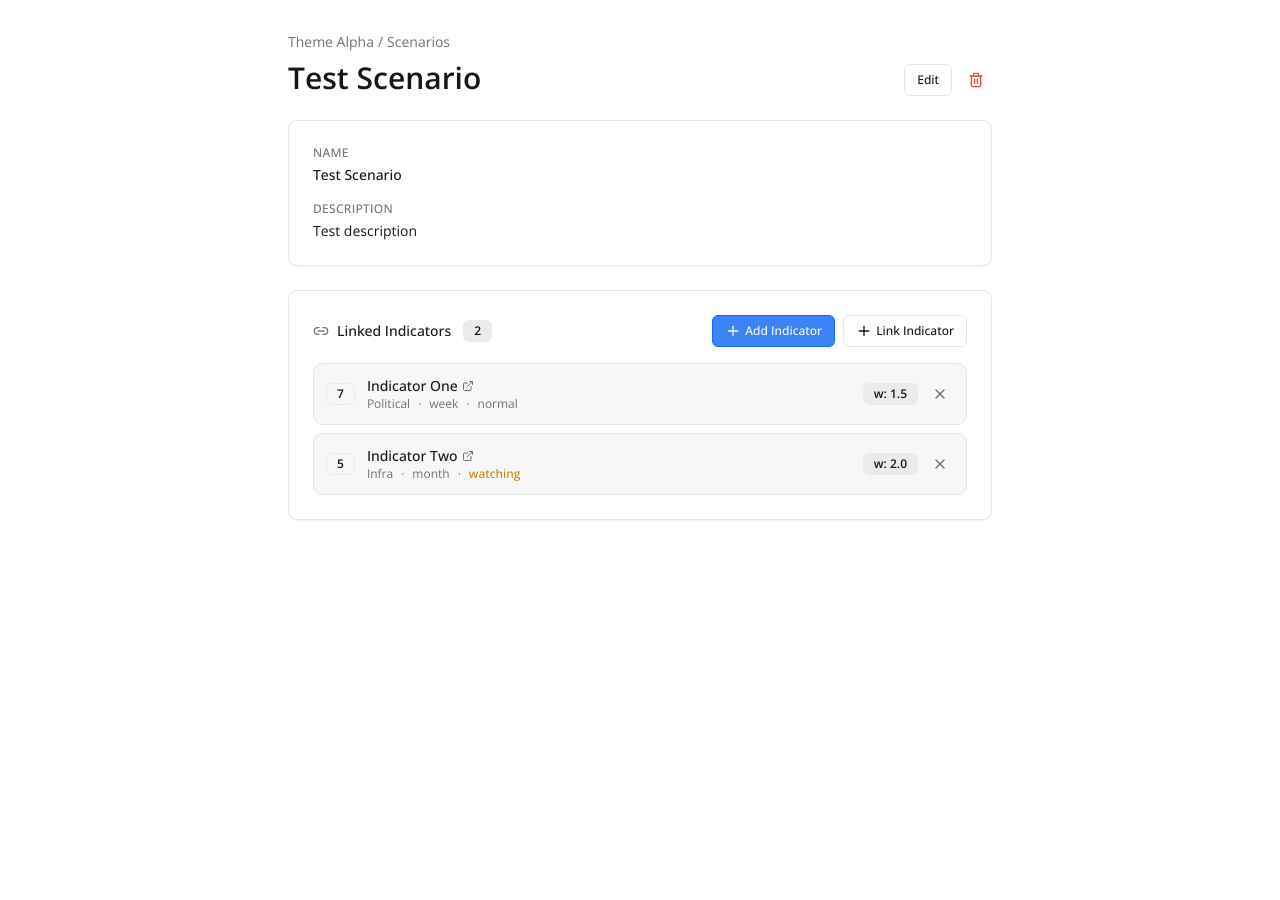
HorizonScenarioDetailScreen › shows the combobox popover when 'Link Indicator' button is clicked
What coordinates should you click on to do the following:
click the button "Link Indicator"
I would click on:
 (905, 331)
Its box is [843,315,967,347].
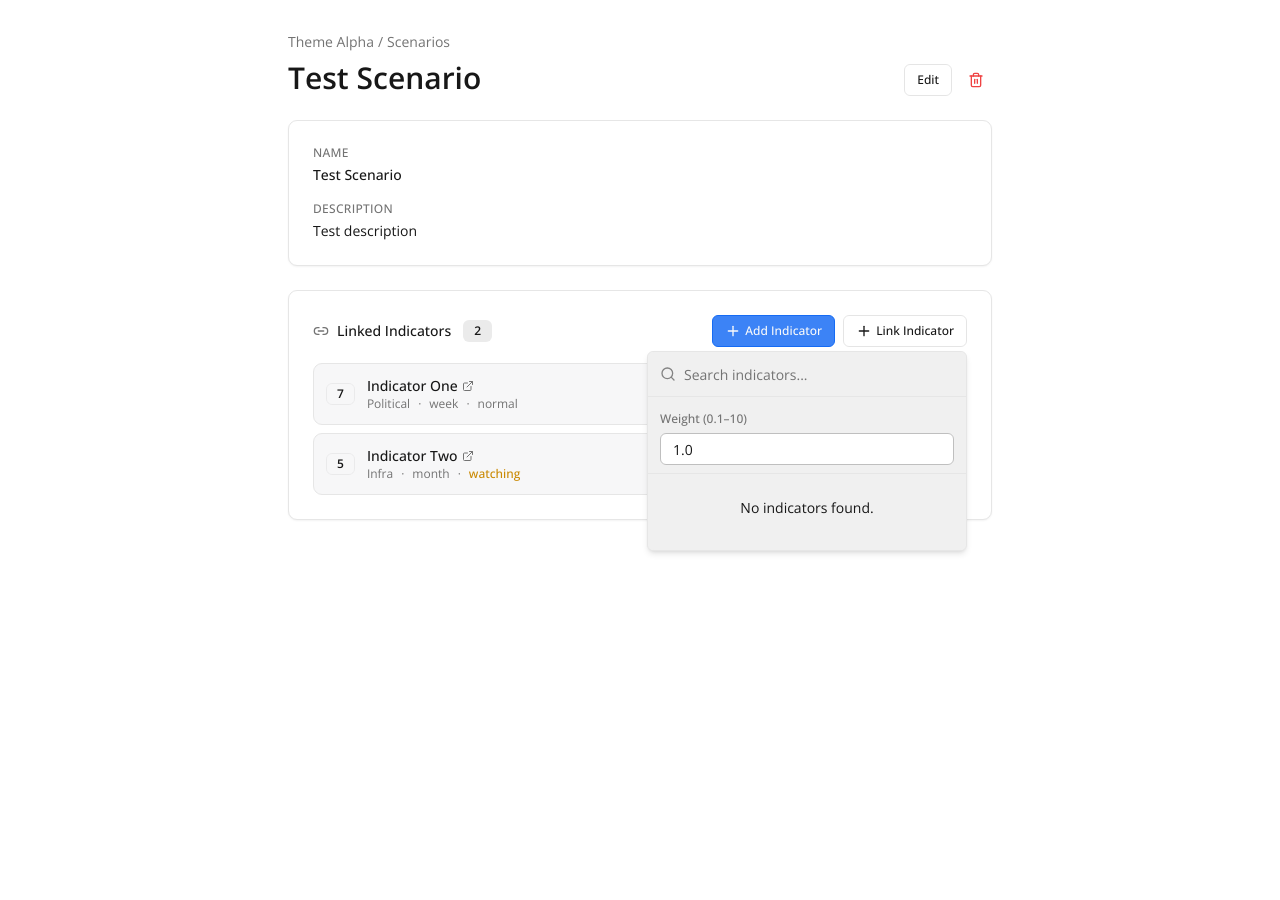
Expected: the dropdown with placeholder "Search indicators..." is shown, [684,352,954,396]
